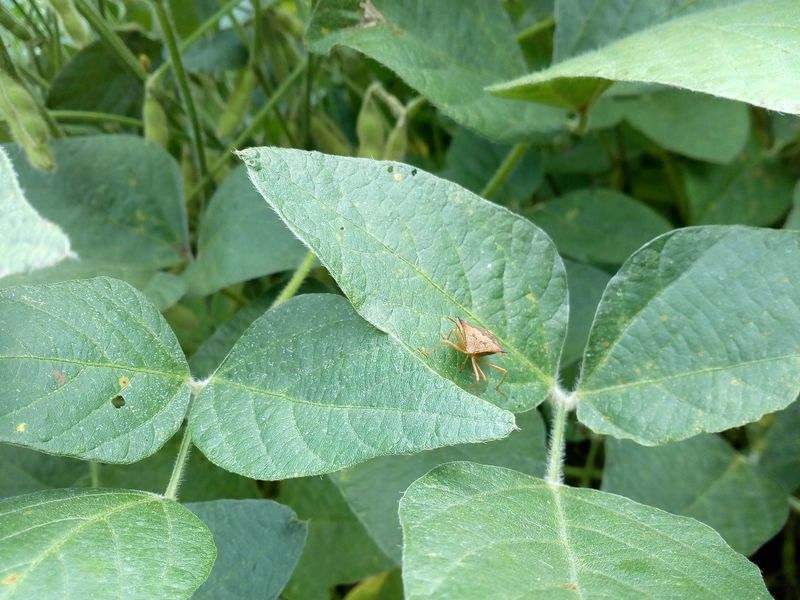Euschistus_heros_adulto: (417, 301, 524, 404)
